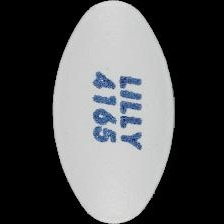49999-458: (0, 0, 224, 224)
